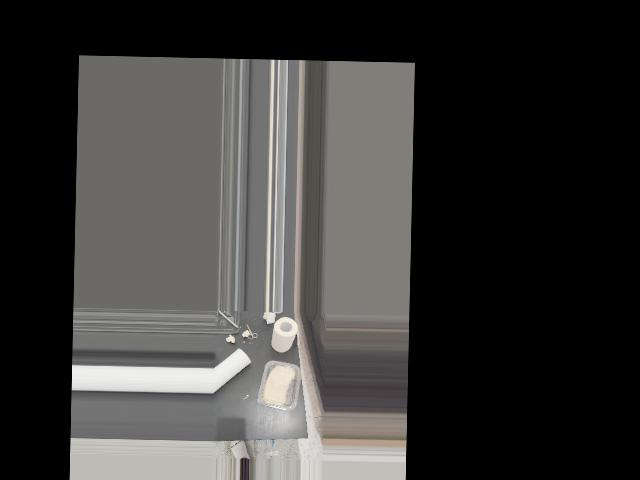cheese: (258, 360, 298, 411)
